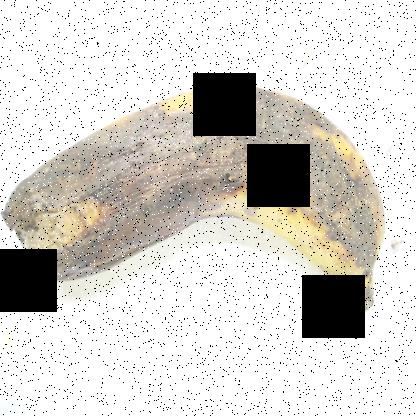rotten: (5, 49, 393, 301)
